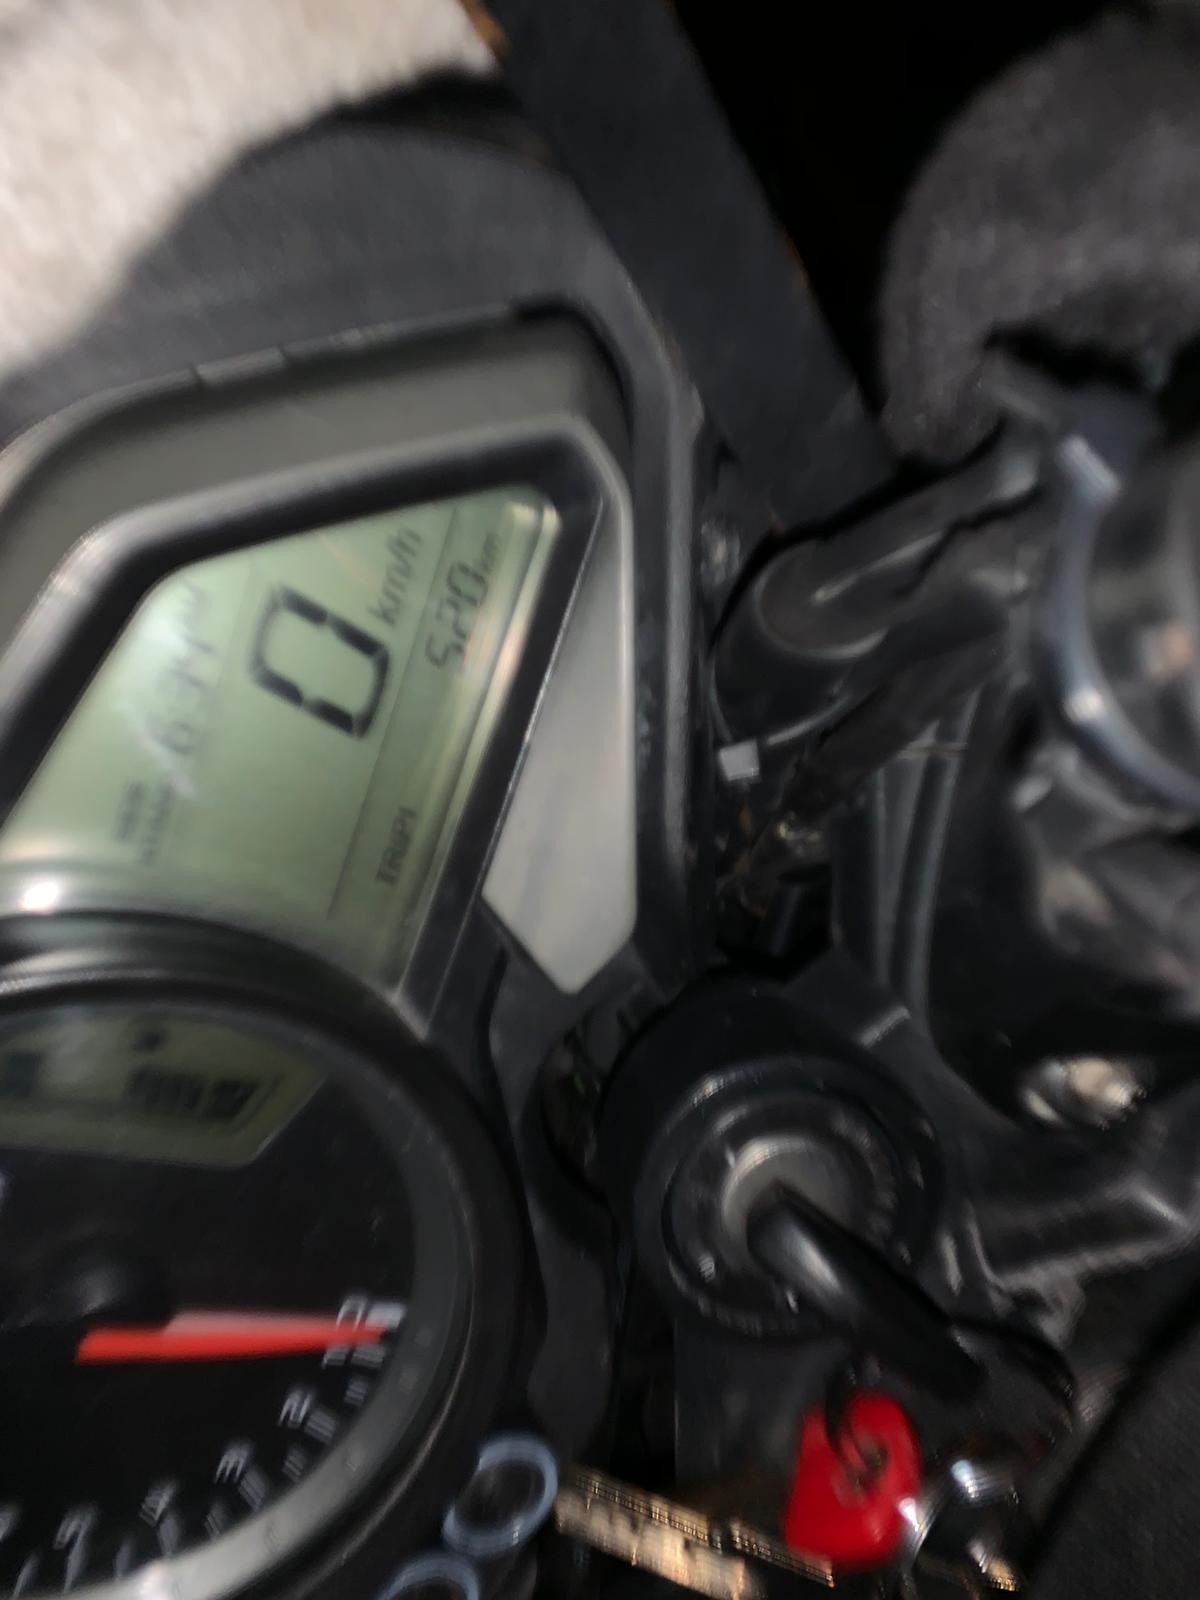0: (242, 580, 392, 740), (445, 559, 489, 609)
1: (397, 805, 416, 816)
2: (435, 598, 473, 640)
3: (158, 666, 213, 707)
4: (166, 631, 219, 666)
5: (420, 634, 466, 671)
6: (137, 711, 195, 755)
X: (381, 564, 408, 603), (388, 527, 421, 554), (366, 598, 397, 625), (182, 582, 211, 610), (171, 609, 205, 631), (384, 544, 412, 566), (381, 847, 405, 871), (482, 530, 503, 556), (163, 703, 195, 719), (471, 553, 495, 574), (389, 816, 411, 838), (373, 866, 396, 884), (384, 837, 407, 852)
odometer: (0, 470, 572, 930)
